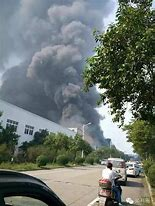smoke: (26, 45, 108, 144)
